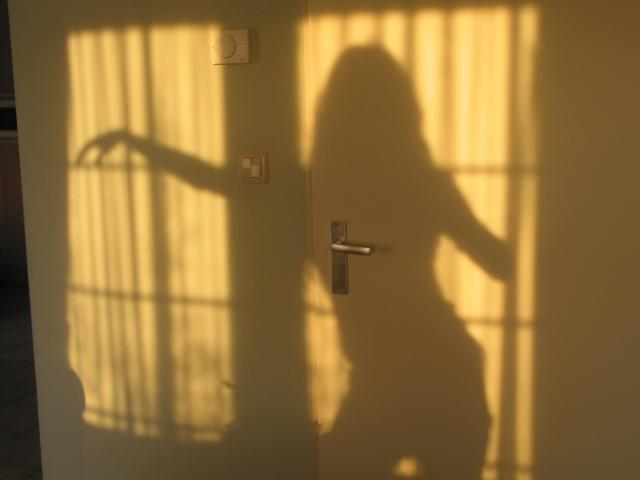Door-handle: (331, 216, 374, 296)
